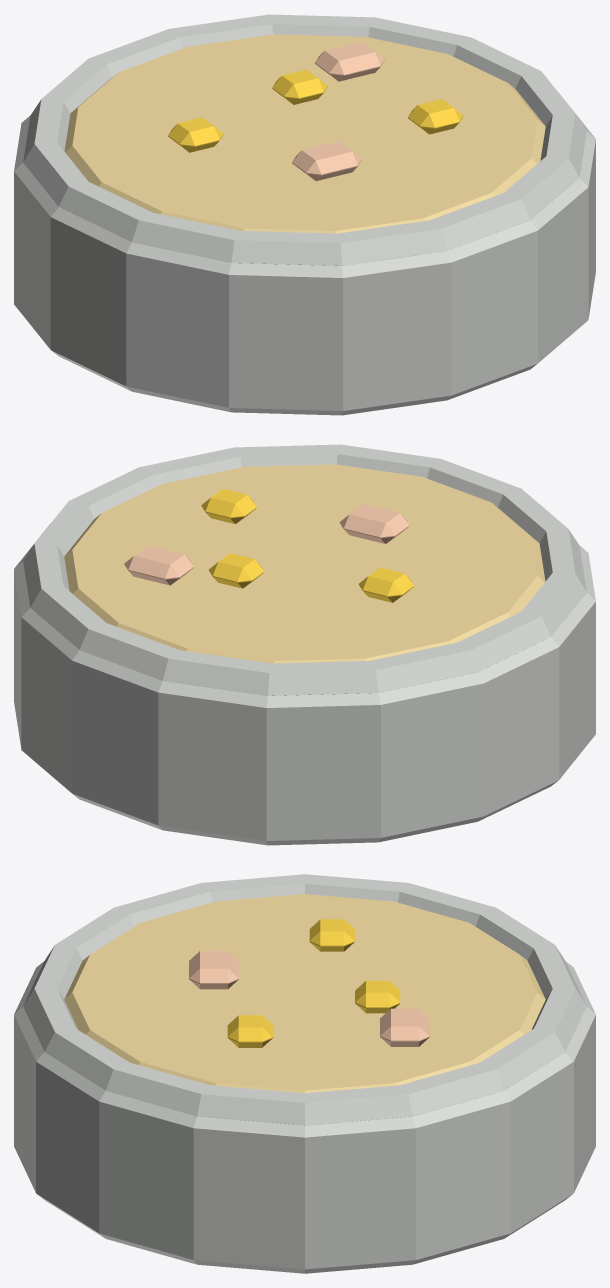
File: corn_chicken_chowder.glb
The picture shows the model from 3 angles, top to bottom: view 1: azimuth 30°, elevation 25°; view 2: azimuth 150°, elevation 25°; view 3: azimuth 270°, elevation 25°; orthographic projection.
Parts seen in each view (by area): view 1: FTF_Dish_CornChickenChowder_StaticMesh; view 2: FTF_Dish_CornChickenChowder_StaticMesh; view 3: FTF_Dish_CornChickenChowder_StaticMesh.
Boxes of the visible parts, box(x1,y1,x2,y2) form: FTF_Dish_CornChickenChowder_StaticMesh: box(14, 14, 595, 415); FTF_Dish_CornChickenChowder_StaticMesh: box(14, 444, 595, 845); FTF_Dish_CornChickenChowder_StaticMesh: box(14, 874, 595, 1273).
Size of the model in its own units: 0.64 by 0.2225 by 0.64.
